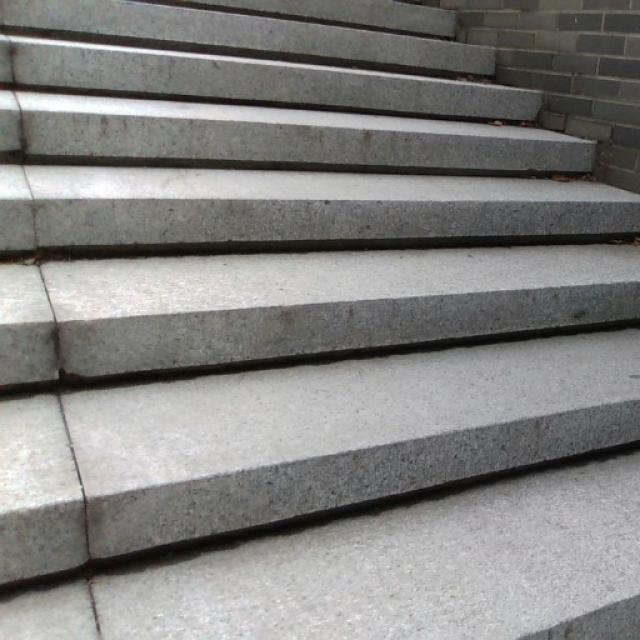Stairs: (0, 0, 639, 600)
